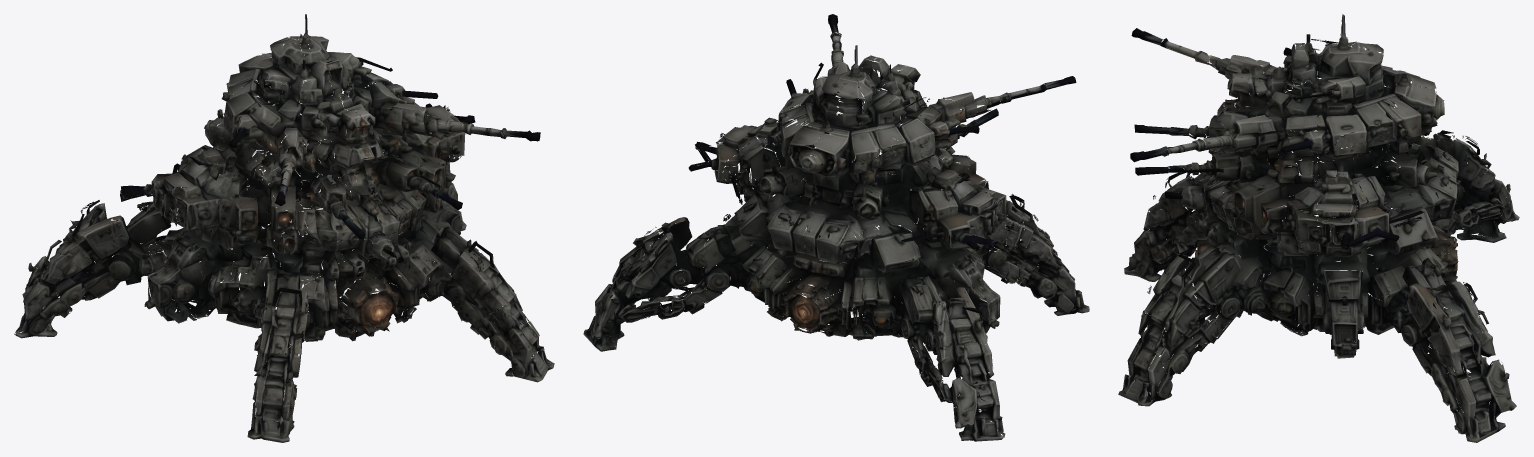
Rendered from arsenal_overlord_static.glb.
3 views of the same model, side by side, from view 1: azimuth 30°, elevation 25°; view 2: azimuth 150°, elevation 25°; view 3: azimuth 270°, elevation 25° (orthographic). The views are drawn at different scales.
Parts seen in each view (by area): view 1: Boss_Mesh; view 2: Boss_Mesh; view 3: Boss_Mesh.
Part boxes in pixels (bbox=[...]): Boss_Mesh: bbox=[14, 14, 554, 442]; Boss_Mesh: bbox=[583, 14, 1089, 441]; Boss_Mesh: bbox=[1118, 14, 1519, 442].
Bounding box in the file's own units: 11.79 × 8.01 × 9.05.
Materials: 1 (1 with a texture image).
